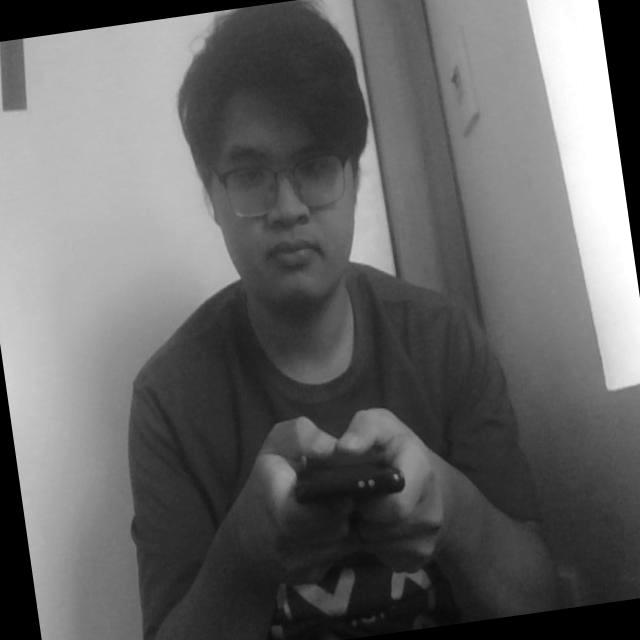phone: (280, 420, 420, 550)
